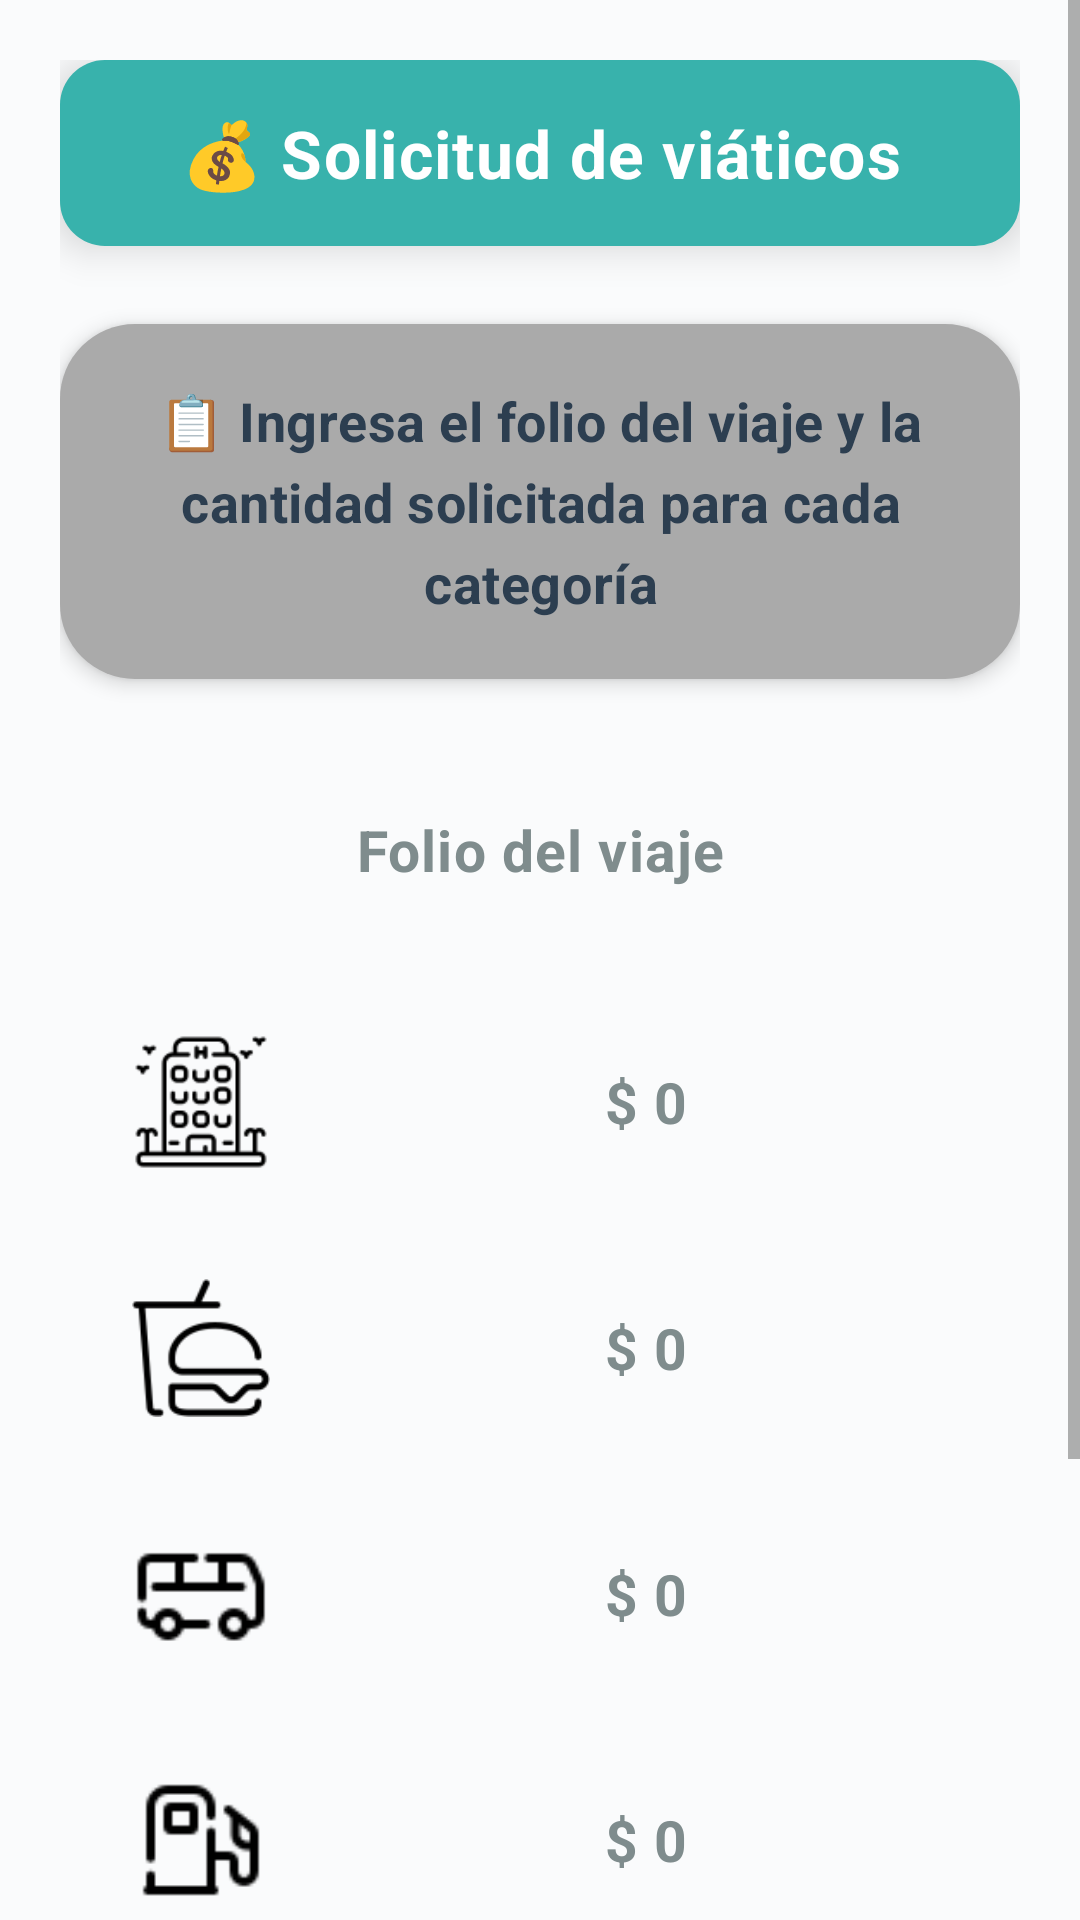

Locate icon controls on the screen. Image size 1080×1920, boxes as [x1,y1,x2,y2].
comida: [132,1279,270,1417]
gasolina: [142,1784,260,1896]
hotel: [135,1036,267,1168]
transporte: [137,1553,265,1641]
